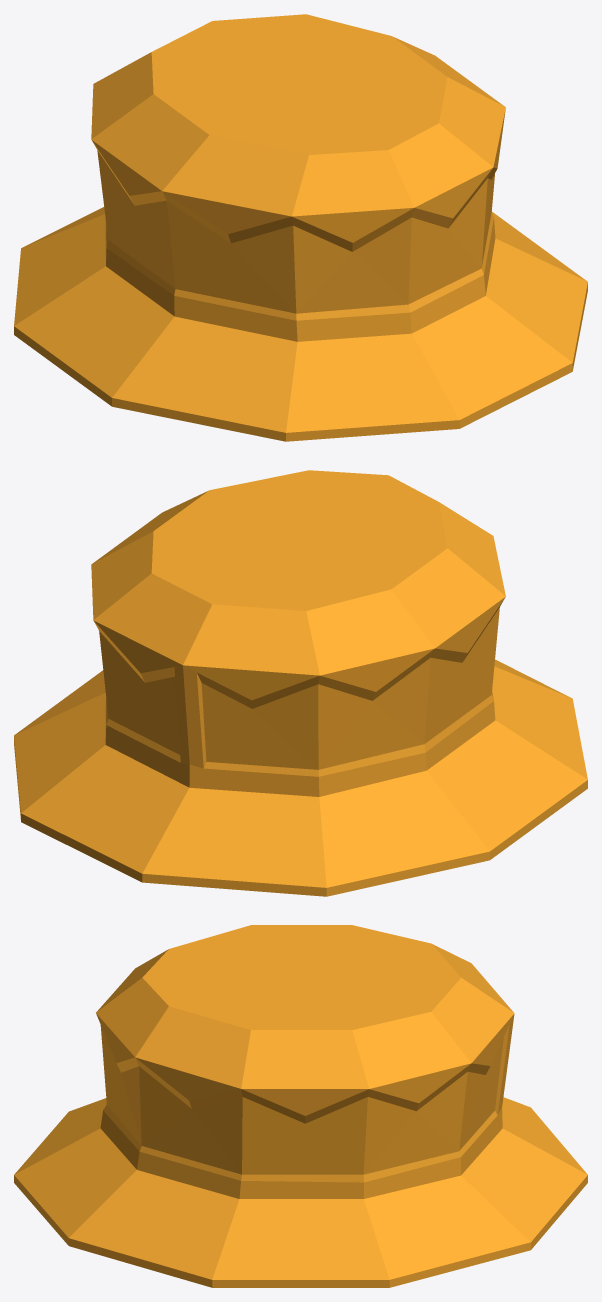
File: SM_Helmet_Kattle_Hat_B_Placed.fbx
3 views of the same model, one above another, from view 1: azimuth 30°, elevation 25°; view 2: azimuth 150°, elevation 25°; view 3: azimuth 270°, elevation 25° (orthographic). The views are drawn at different scales.
Visible parts, largest first — view 1: helmet-kattle-hat-b-placed; view 2: helmet-kattle-hat-b-placed; view 3: helmet-kattle-hat-b-placed.
Part boxes in pixels (x1,y1,x2,y2): helmet-kattle-hat-b-placed: (14, 14, 587, 441); helmet-kattle-hat-b-placed: (14, 470, 587, 896); helmet-kattle-hat-b-placed: (14, 925, 587, 1287).
Bounding box in the file's own units: 0.3246 × 0.167 × 0.3749.
